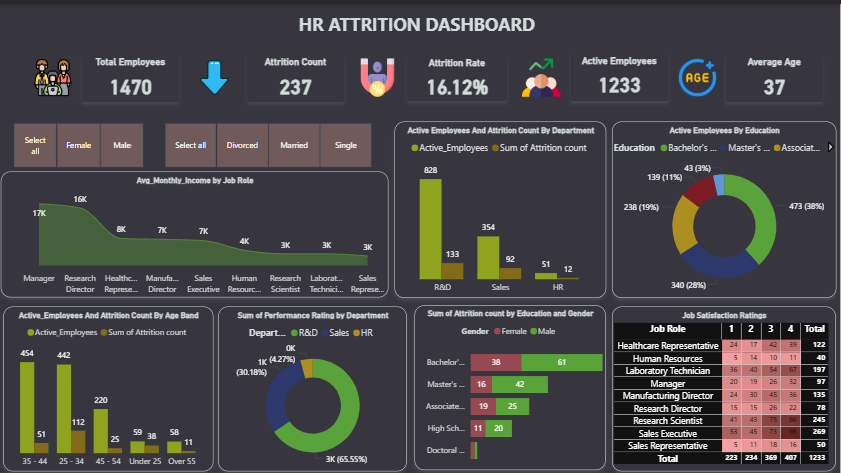

This screenshot's page, from the dashboard's own definition file:
{"tool":"powerbi","page":{"name":"Page 1","canvas":[1280,720],"ordinal":0},"visuals":[{"type":"textbox","box":[40,10,1195,45],"z":0},{"type":"group","id":"g1","title":"Group 1","box":[129.3,74.4,1125.2,74.5],"z":0,"group":"g2"},{"type":"card","title":"Total Employees","fields":{"Values":["HR Data xlsx.Total_Employee"]},"box":[129.3,75.9,147.3,72.9],"z":0,"group":"g1"},{"type":"card","title":"Attrition Count","fields":{"Values":["Sum(HR Data xlsx.Attrition count)"]},"box":[379.3,75.9,147.3,72.9],"z":1000,"group":"g1"},{"type":"image","box":[37.5,78.2,93.8,68.5],"z":1000,"group":"g2"},{"type":"clusteredColumnChart","title":"Active Employees And  Attrition Count By Department","fields":{"Y":["HR Data xlsx.Active_Employees","Sum(HR Data xlsx.Attrition count)"],"Category":["HR Data xlsx.Department"]},"box":[604.3,178.6,321.5,267.9],"z":1000},{"type":"card","title":"Attrition Rate","fields":{"Values":["HR Data xlsx.Attrition_Rate"]},"box":[623.4,78.9,151.8,70],"z":2000,"group":"g1"},{"type":"donutChart","title":"Active Employees By Education","fields":{"Y":["HR Data xlsx.Active_Employees"],"Category":["HR Data xlsx.Education"]},"box":[934.7,178.6,340.8,267.9],"z":2000},{"type":"card","title":"Active Employees","fields":{"Values":["HR Data xlsx.Active_Employees"]},"box":[872.5,74.4,147.6,73.2],"z":3000,"group":"g1"},{"type":"clusteredColumnChart","title":"Active_Employees And Attrition Count By Age Band","fields":{"Category":["HR Data xlsx.CF_age band"],"Y":["HR Data xlsx.Active_Employees","Sum(HR Data xlsx.Attrition count)"]},"box":[9.5,459.5,319,250.6],"z":3000},{"type":"card","title":"Average Age","fields":{"Values":["HR Data xlsx.Avg_Age"]},"box":[1107.2,75.9,147.3,72.9],"z":4000,"group":"g1"},{"type":"pivotTable","title":"Job Satisfaction Ratings","fields":{"Rows":["HR Data xlsx.Job Role"],"Columns":["HR Data xlsx.Job Satisfaction"],"Values":["HR Data xlsx.Active_Employees"]},"box":[935,458.9,339.9,250.3],"z":4000},{"type":"areaChart","fields":{"Y":["HR Data xlsx.Avg_Monthly_Income"],"Category":["HR Data xlsx.Job Role"]},"box":[4.9,255.2,589,191.4],"z":5000},{"type":"donutChart","fields":{"Category":["HR Data xlsx.Department"],"Y":["Sum(HR Data xlsx.Performance Rating)"]},"box":[336,459.5,286.7,250.6],"z":6000},{"type":"barChart","fields":{"Series":["HR Data xlsx.Gender"],"Y":["Sum(HR Data xlsx.Attrition count)"],"Category":["HR Data xlsx.Education"]},"box":[634.1,457.6,290.5,250.6],"z":7000},{"type":"slicer","fields":{"Values":["HR Data xlsx.Gender"]},"box":[0,174.3,245.8,80.2],"z":8000},{"type":"slicer","fields":{"Values":["HR Data xlsx.Marital Status"]},"box":[230.1,174.3,362.6,80.2],"z":9000},{"type":"image","box":[278.3,77.4,101.2,68.5],"z":10000},{"type":"image","box":[782.9,77.4,89.3,68.5],"z":11000},{"type":"image","box":[1019.5,77.4,89.3,68.5],"z":12000},{"type":"image","box":[534.3,77.4,89.3,68.5],"z":13000},{"type":"group","id":"g2","title":"Group 2","box":[37.5,74.4,1217,74.5],"z":14000}]}

Visuals, with their boxes in screenshot pixels (x1, y1, x2, y2), scaled from the page's 1280x720 canvas onto the 841x473 screenshot:
textbox: [left=26, top=7, right=811, bottom=36]
"Group 1" group: [left=85, top=49, right=824, bottom=98]
"Total Employees" card: [left=85, top=50, right=182, bottom=98]
"Attrition Count" card: [left=249, top=50, right=346, bottom=98]
image: [left=25, top=51, right=86, bottom=96]
"Active Employees And  Attrition Count By Department" clusteredColumnChart: [left=397, top=117, right=608, bottom=293]
"Attrition Rate" card: [left=410, top=52, right=509, bottom=98]
"Active Employees By Education" donutChart: [left=614, top=117, right=838, bottom=293]
"Active Employees" card: [left=573, top=49, right=670, bottom=97]
"Active_Employees And Attrition Count By Age Band" clusteredColumnChart: [left=6, top=302, right=216, bottom=466]
"Average Age" card: [left=727, top=50, right=824, bottom=98]
"Job Satisfaction Ratings" pivotTable: [left=614, top=301, right=838, bottom=466]
areaChart - HR Data xlsx.Avg_Monthly_Income x HR Data xlsx.Job Role: [left=3, top=168, right=390, bottom=293]
donutChart - HR Data xlsx.Department x Sum(HR Data xlsx.Performance Rating): [left=221, top=302, right=409, bottom=466]
barChart - HR Data xlsx.Gender x Sum(HR Data xlsx.Attrition count): [left=417, top=301, right=607, bottom=465]
slicer - HR Data xlsx.Gender: [left=0, top=115, right=161, bottom=167]
slicer - HR Data xlsx.Marital Status: [left=151, top=115, right=389, bottom=167]
image: [left=183, top=51, right=249, bottom=96]
image: [left=514, top=51, right=573, bottom=96]
image: [left=670, top=51, right=729, bottom=96]
image: [left=351, top=51, right=410, bottom=96]
"Group 2" group: [left=25, top=49, right=824, bottom=98]
